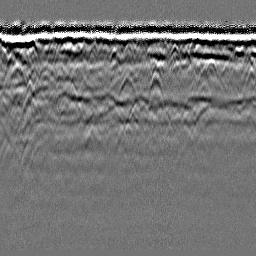cavity: (118, 70, 137, 95)
